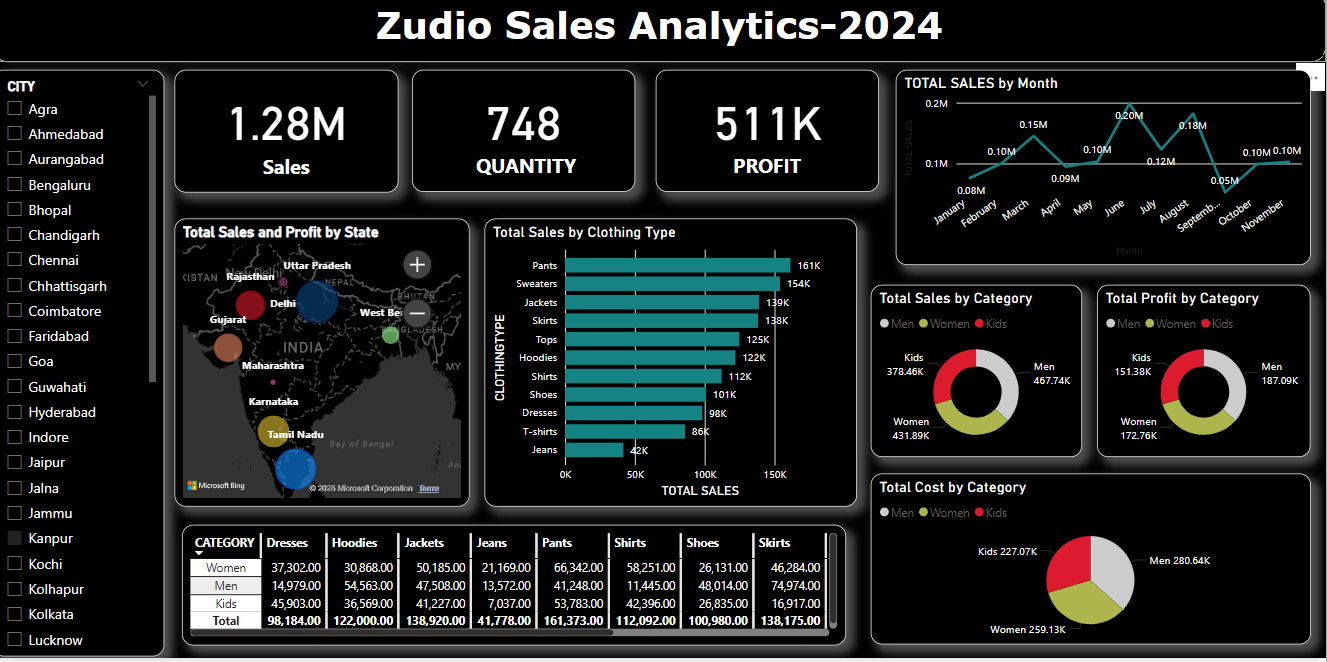

The page's visual inventory and layout, read from the dashboard file:
{"tool":"powerbi","page":{"name":"Page 1","canvas":[1531,765],"ordinal":0},"visuals":[{"type":"textbox","box":[0,0,1531,81.7],"z":0},{"type":"slicer","fields":{"Values":["ZUDIO_STORE.CITY"]},"box":[0,91,197.4,673],"z":1000},{"type":"card","fields":{"Values":["ZUDIO_STORE.TOTAL SALES"]},"box":[209.3,90.3,256.6,140.5],"z":2000},{"type":"card","fields":{"Values":["Sum(ZUDIO_STORE.QUANTITY)"]},"box":[482,91,256,140],"z":3000},{"type":"card","fields":{"Values":["Sum(ZUDIO_STORE.SALESPROFIT)"]},"box":[761.4,91,256,140],"z":4000},{"type":"lineChart","fields":{"Y":["ZUDIO_STORE.TOTAL SALES"],"Category":["ZUDIO_STORE.ORDERDATE.Variation.Date Hierarchy.Quarter","ZUDIO_STORE.ORDERDATE.Variation.Date Hierarchy.Month","ZUDIO_STORE.ORDERDATE.Variation.Date Hierarchy.Day"]},"box":[1036.4,90.3,475.9,223.6],"z":5000},{"type":"barChart","title":"Total Sales by Clothing Type","fields":{"Category":["ZUDIO_STORE.CLOTHINGTYPE"],"Y":["ZUDIO_STORE.TOTAL SALES"]},"box":[565.3,260.2,426.9,330.7],"z":6000},{"type":"pivotTable","fields":{"Rows":["ZUDIO_STORE.CATEGORY"],"Columns":["ZUDIO_STORE.CLOTHINGTYPE"],"Values":["ZUDIO_STORE.TOTAL SALES"]},"box":[217.9,611.4,761.4,138.4],"z":7000},{"type":"donutChart","title":"Total Sales by Category","fields":{"Category":["ZUDIO_STORE.CATEGORY"],"Y":["ZUDIO_STORE.TOTAL SALES"]},"box":[1007.8,336.9,242.3,197.8],"z":8000},{"type":"map","title":"Total Sales and Profit by State","fields":{"Category":["ZUDIO_STORE.STATE"],"Size":["ZUDIO_STORE.TOTAL SALES"]},"box":[208.9,260.2,338.4,330.7],"z":9000},{"type":"pieChart","title":" Total Cost by Category","fields":{"Category":["ZUDIO_STORE.CATEGORY"],"Y":["Sum(ZUDIO_STORE.TOTALCOST)"]},"box":[1007.8,553.3,504.6,196.4],"z":10000},{"type":"donutChart","title":"Total Profit  by Category","fields":{"Category":["ZUDIO_STORE.CATEGORY"],"Y":["Sum(ZUDIO_STORE.SALESPROFIT)"]},"box":[1267.2,336.9,245.1,197.8],"z":11000}]}

Visuals, with their boxes in screenshot pixels (x1, y1, x2, y2), scaled from the page's 1531x765 canvas onto the 1327x662 screenshot:
textbox: box(0, 0, 1326, 71)
slicer - ZUDIO_STORE.CITY: box(0, 79, 171, 661)
card - ZUDIO_STORE.TOTAL SALES: box(181, 78, 404, 200)
card - Sum(ZUDIO_STORE.QUANTITY): box(418, 79, 640, 200)
card - Sum(ZUDIO_STORE.SALESPROFIT): box(660, 79, 882, 200)
lineChart - ZUDIO_STORE.TOTAL SALES x ZUDIO_STORE.ORDERDATE.Variation.Date Hierarchy.Quarter: box(898, 78, 1311, 272)
"Total Sales by Clothing Type" barChart: box(490, 225, 860, 511)
pivotTable - ZUDIO_STORE.CATEGORY x ZUDIO_STORE.CLOTHINGTYPE: box(189, 529, 849, 649)
"Total Sales by Category" donutChart: box(874, 292, 1084, 463)
"Total Sales and Profit by State" map: box(181, 225, 474, 511)
" Total Cost by Category" pieChart: box(874, 479, 1311, 649)
"Total Profit  by Category" donutChart: box(1098, 292, 1311, 463)
